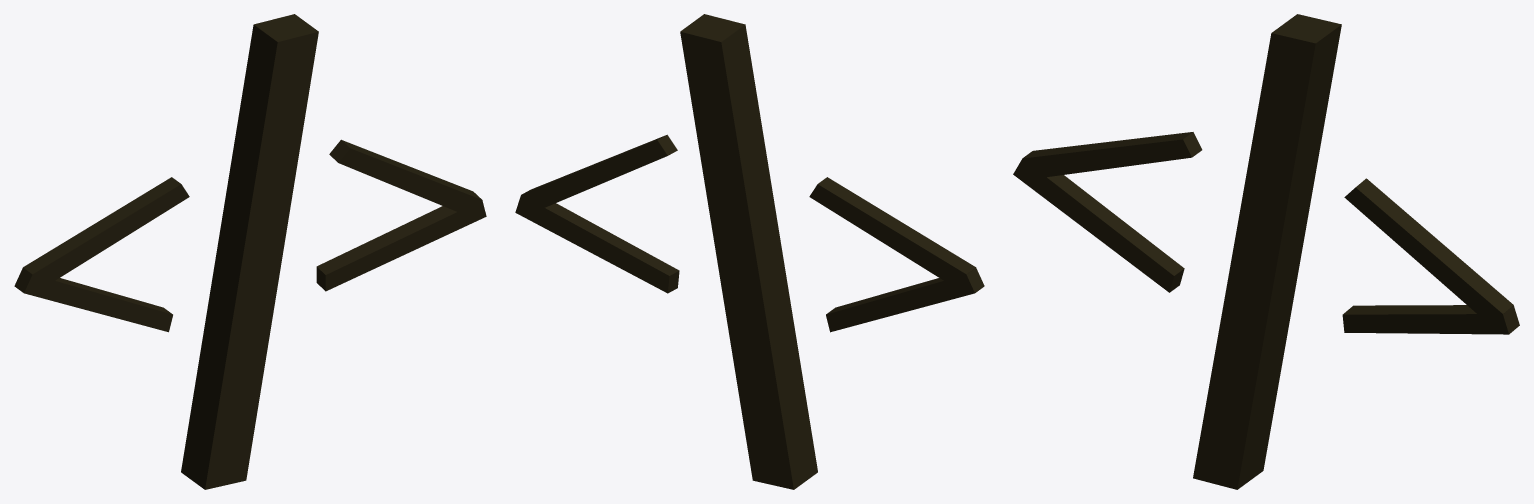
File: ROTATE.glb
3 views of the same model, side by side, from view 1: azimuth 30°, elevation 25°; view 2: azimuth 150°, elevation 25°; view 3: azimuth 330°, elevation 25° (orthographic). The views are drawn at different scales.
Visible parts, largest first — view 1: Cube.001; view 2: Cube.001; view 3: Cube.001.
Boxes of the visible parts, x1=… form: Cube.001: x1=14, y1=14, x2=486, y2=489; Cube.001: x1=515, y1=14, x2=984, y2=489; Cube.001: x1=1013, y1=14, x2=1519, y2=489.
Bounding box in the file's own units: 11.03 × 9.85 × 1.
